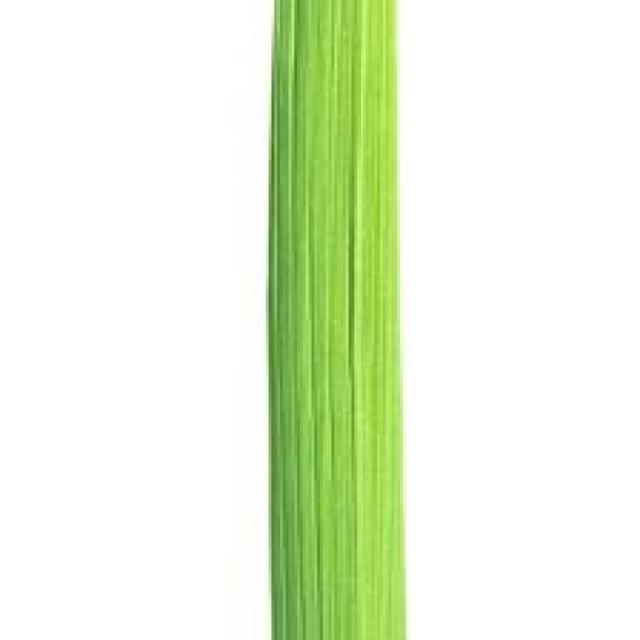Rice___Healthy_Rice_Plant: (267, 0, 410, 637)
